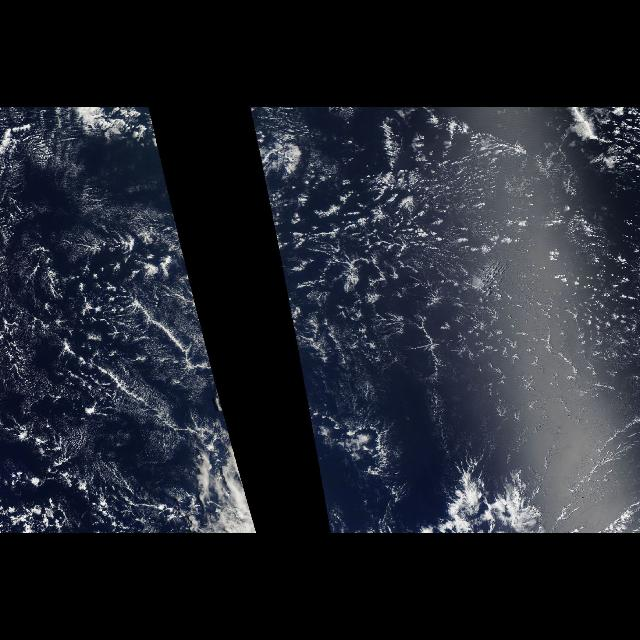Gravel: (2, 226, 220, 426)
Sugar: (322, 122, 638, 428), (3, 218, 180, 494)
